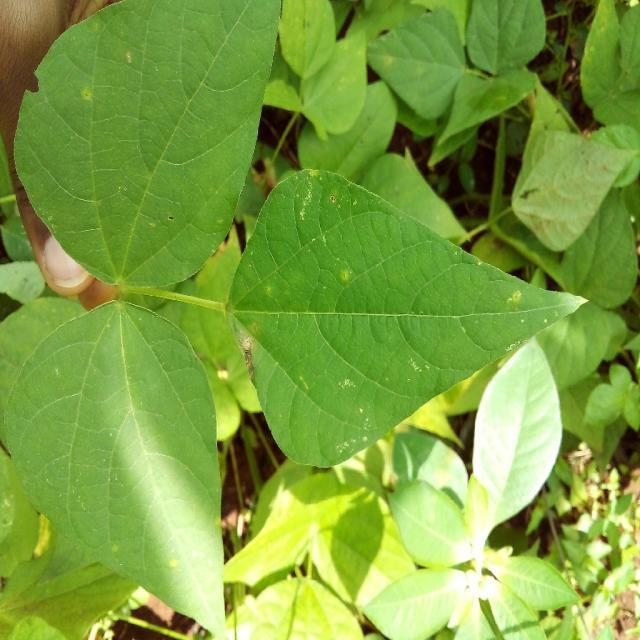embun tepung: (290, 169, 383, 260), (310, 365, 385, 473), (406, 345, 430, 387)
sehat: (60, 38, 195, 272), (35, 365, 184, 573)
